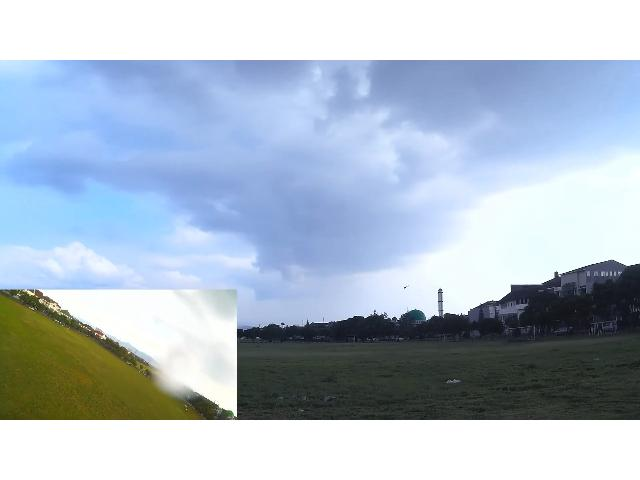Anti-Drone: (394, 277, 421, 295)
